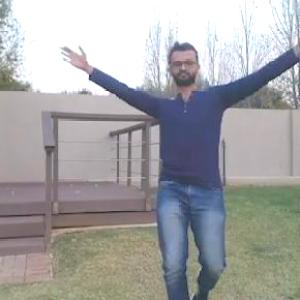takeoff: (3, 26, 300, 299)
